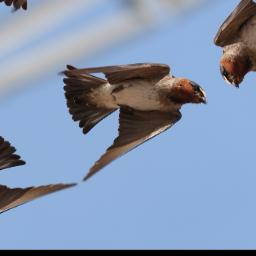Swallow: (14, 22, 222, 183)
